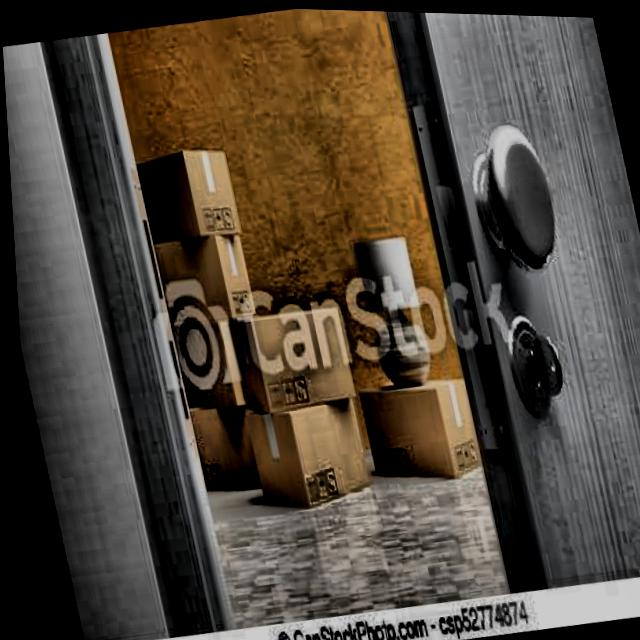Cardbox: (217, 289, 358, 424), (361, 364, 502, 492), (134, 212, 258, 336), (128, 137, 256, 251)
